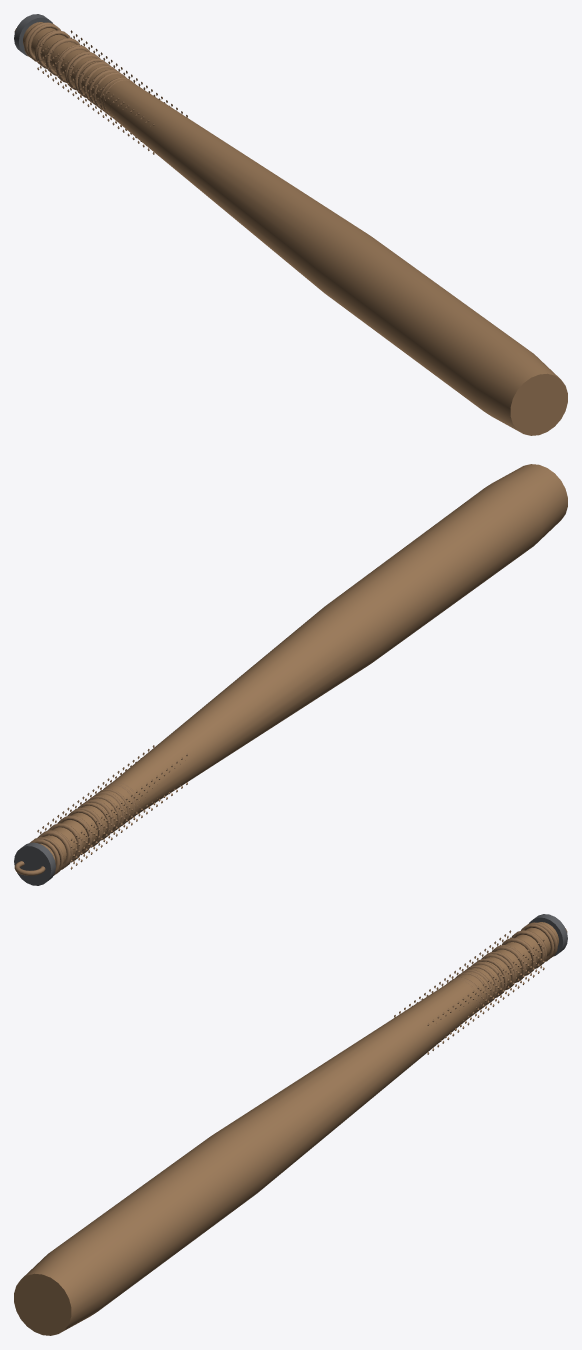
File: baseball-bat.glb
3 views of the same model, one above another, from view 1: azimuth 30°, elevation 25°; view 2: azimuth 150°, elevation 25°; view 3: azimuth 330°, elevation 25° (orthographic).
Parts seen in each view (by area): view 1: baseball-bat; view 2: baseball-bat; view 3: baseball-bat.
Part boxes in pixels (x1,y1,x2,y2): baseball-bat: (14,14,567,435); baseball-bat: (14,464,567,885); baseball-bat: (14,914,567,1335).
Bounding box in the file's own units: 0.0634 × 0.064 × 0.8651.
